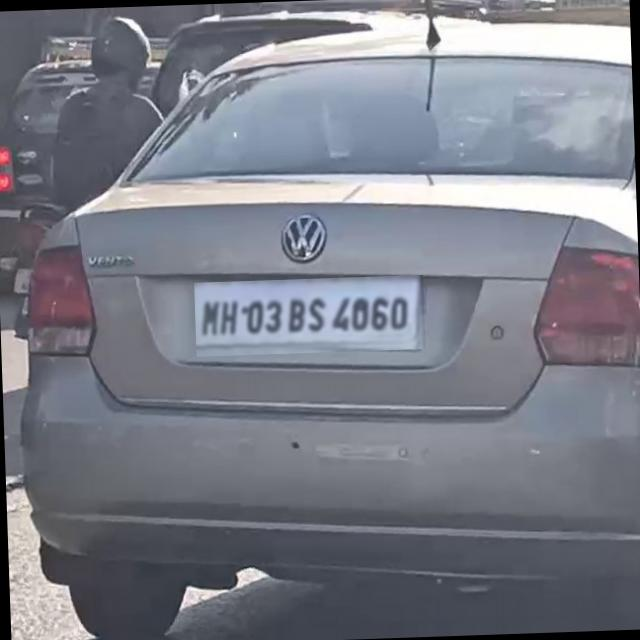Plate: (196, 276, 428, 358)
